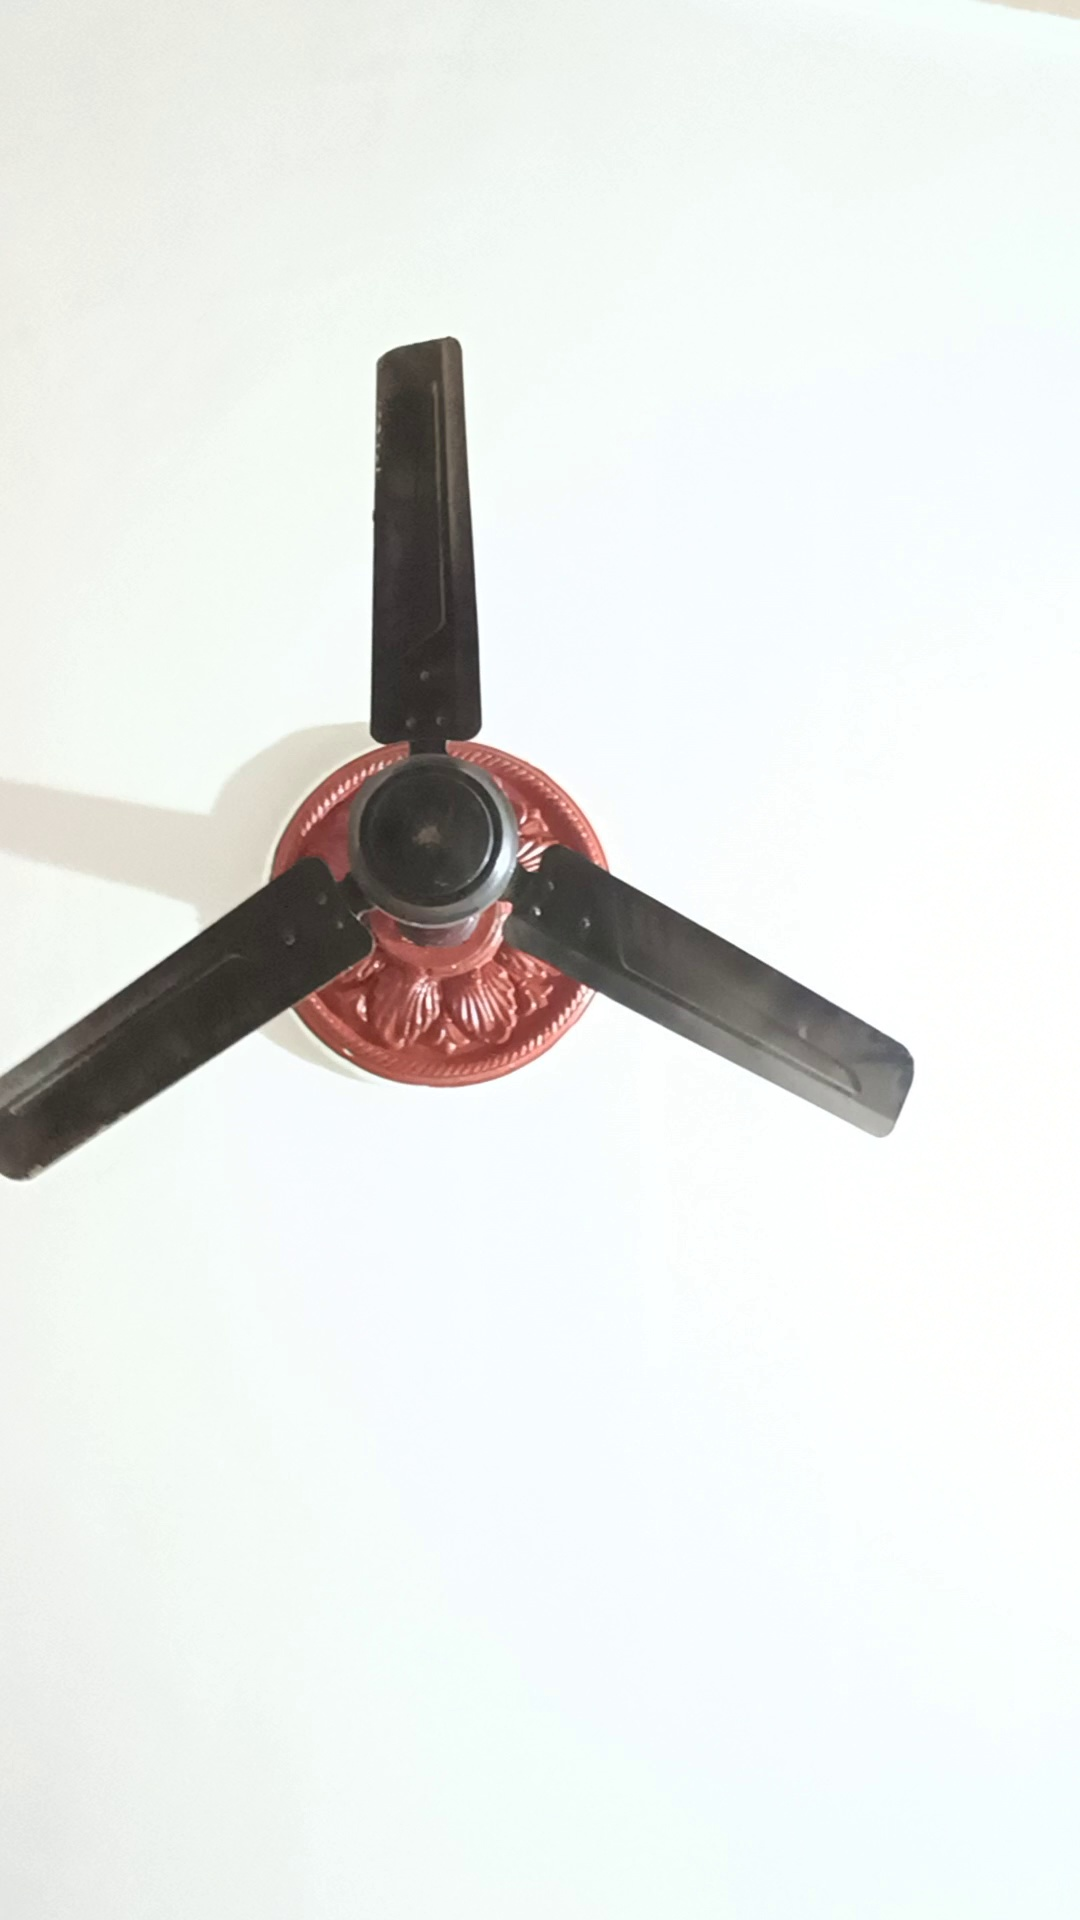fan: (1, 330, 940, 1182)
